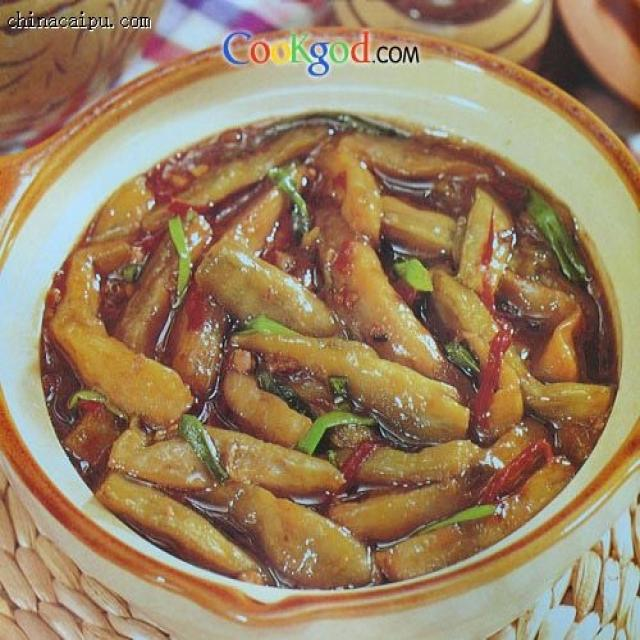鸡蛋料理: (11, 64, 630, 610)
